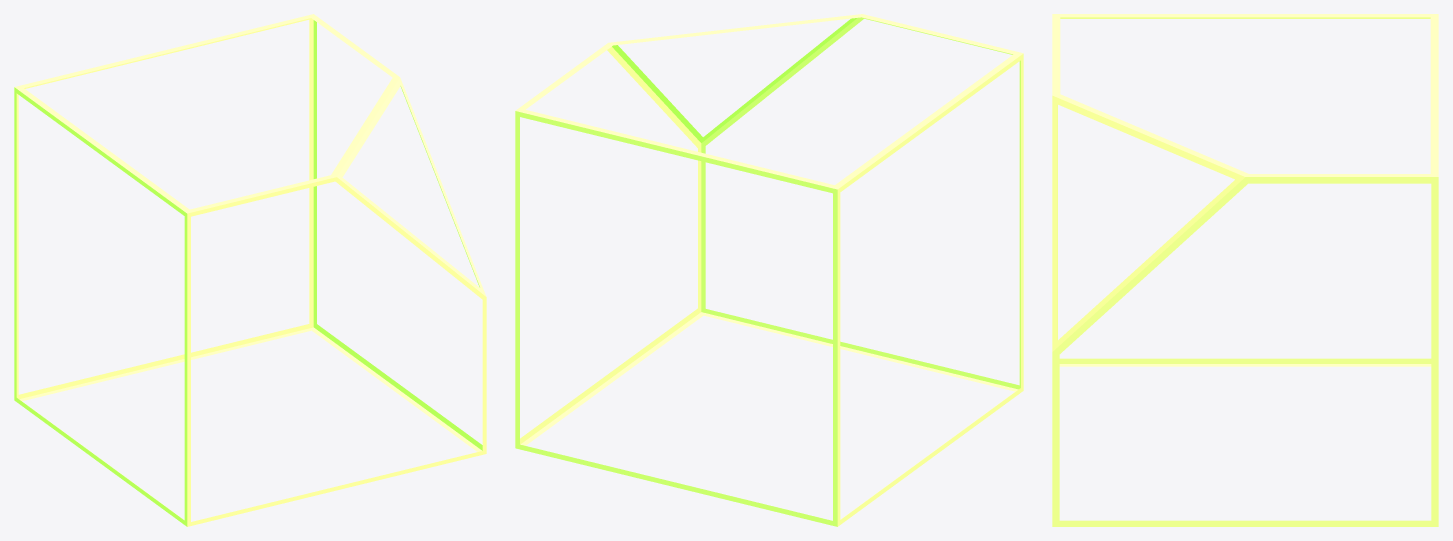
Rendered from r3c1_highlight_green.glb.
3 views of the same model, side by side, from view 1: azimuth 30°, elevation 25°; view 2: azimuth 150°, elevation 25°; view 3: azimuth 270°, elevation 25° (orthographic). The views are drawn at different scales.
Parts seen in each view (by area): view 1: r3c1_highlight_green; view 2: r3c1_highlight_green; view 3: r3c1_highlight_green.
Boxes of the visible parts, <box> form: r3c1_highlight_green: <box>14,14,486,526</box>; r3c1_highlight_green: <box>515,14,1023,526</box>; r3c1_highlight_green: <box>1052,14,1438,526</box>.
Bounding box in the file's own units: 2 × 2 × 2.
